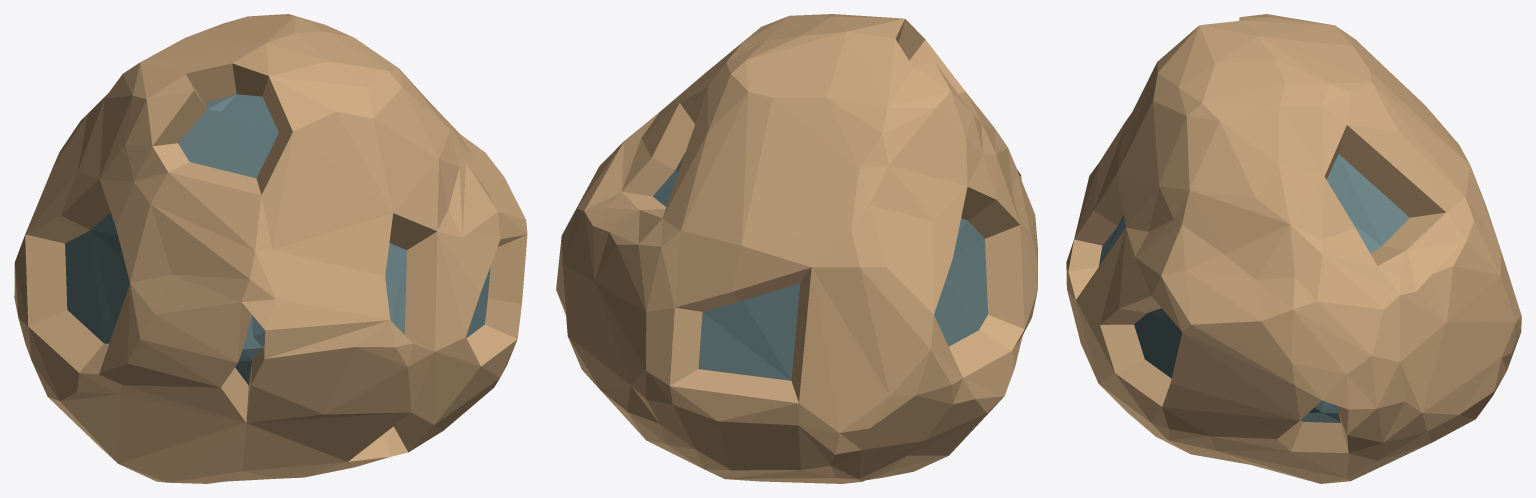
Rendered from SM_LP_MetalNode_2.fbx.
3 renders of one model, left to right at view 1: azimuth 30°, elevation 25°; view 2: azimuth 150°, elevation 25°; view 3: azimuth 270°, elevation 25°, orthographic. The views are drawn at different scales.
Parts seen in each view (by area): view 1: SM_LP_MetalNode_2; view 2: SM_LP_MetalNode_2; view 3: SM_LP_MetalNode_2.
Boxes of the visible parts, x1,y1,x2,y2 form: SM_LP_MetalNode_2: (14, 14, 527, 483); SM_LP_MetalNode_2: (556, 14, 1037, 483); SM_LP_MetalNode_2: (1066, 14, 1521, 483).
Bounding box in the file's own units: 0.8616 × 0.8 × 0.8331.
